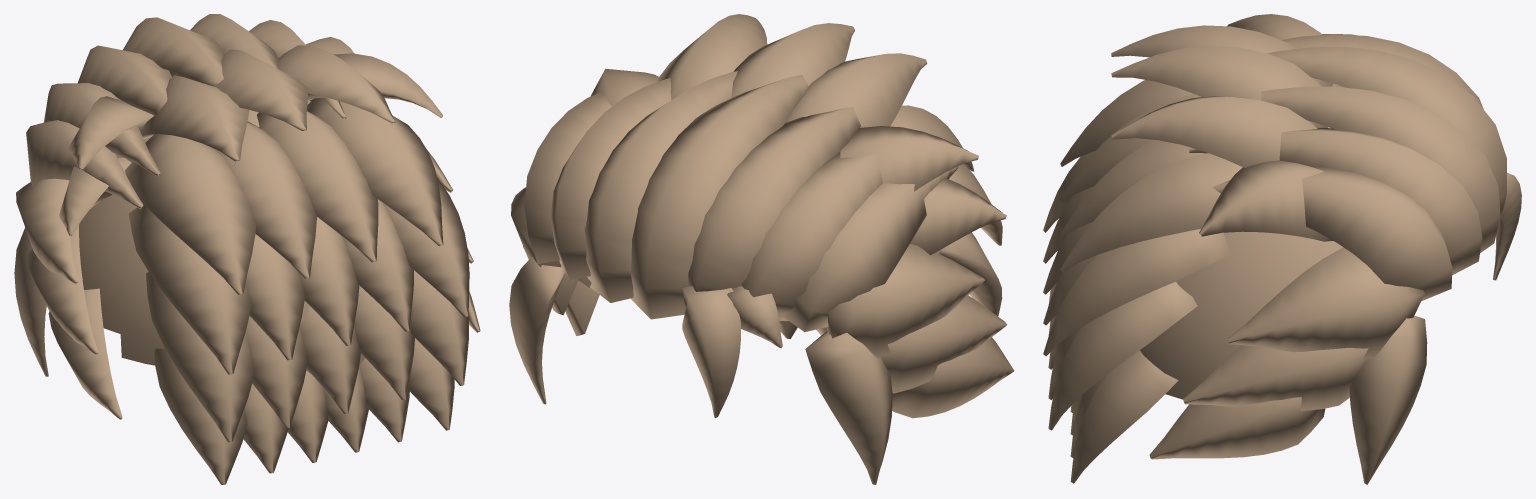
File: shurn_hair.fbx
3 renders of one model, left to right at view 1: azimuth 30°, elevation 25°; view 2: azimuth 150°, elevation 25°; view 3: azimuth 270°, elevation 25°, orthographic. The views are drawn at different scales.
Parts seen in each view (by area): view 1: ShurnHair; view 2: ShurnHair; view 3: ShurnHair.
Boxes of the visible parts, x1,y1,x2,y2 form: ShurnHair: (14, 14, 480, 484); ShurnHair: (509, 14, 1014, 484); ShurnHair: (1043, 14, 1521, 484).
Bounding box in the file's own units: 179 × 149 × 173.
